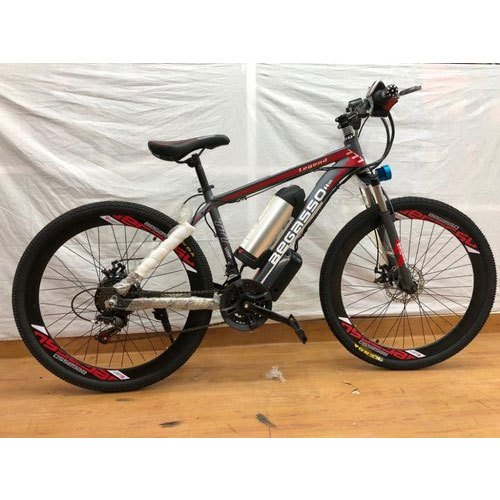cycle: (12, 77, 499, 407)
